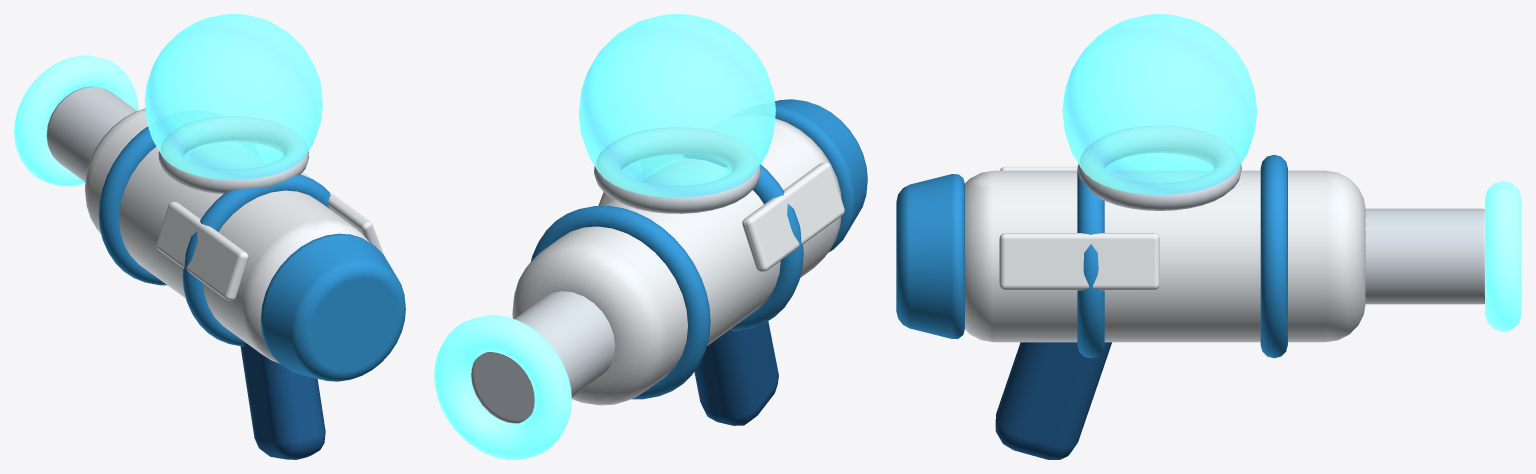
Rendered from blaster.glb.
3 renders of one model, left to right at view 1: azimuth 30°, elevation 25°; view 2: azimuth 150°, elevation 25°; view 3: azimuth 270°, elevation 25°, orthographic. The views are drawn at different scales.
Visible parts, largest first — view 1: Blaster, Tank, Nozzle; view 2: Blaster, Tank, Nozzle; view 3: Blaster, Tank, Nozzle.
Boxes of the visible parts, box(x1,y1,x2,y2) form: Blaster: box(46, 86, 405, 459); Tank: box(144, 14, 322, 179); Nozzle: box(14, 55, 138, 186); Blaster: box(471, 99, 867, 425); Tank: box(578, 14, 775, 197); Nozzle: box(434, 315, 571, 459); Blaster: box(896, 126, 1484, 459); Tank: box(1062, 14, 1256, 194); Nozzle: box(1485, 181, 1521, 331).
Bounding box in the file's own units: 0.178 × 0.4164 × 0.546.
